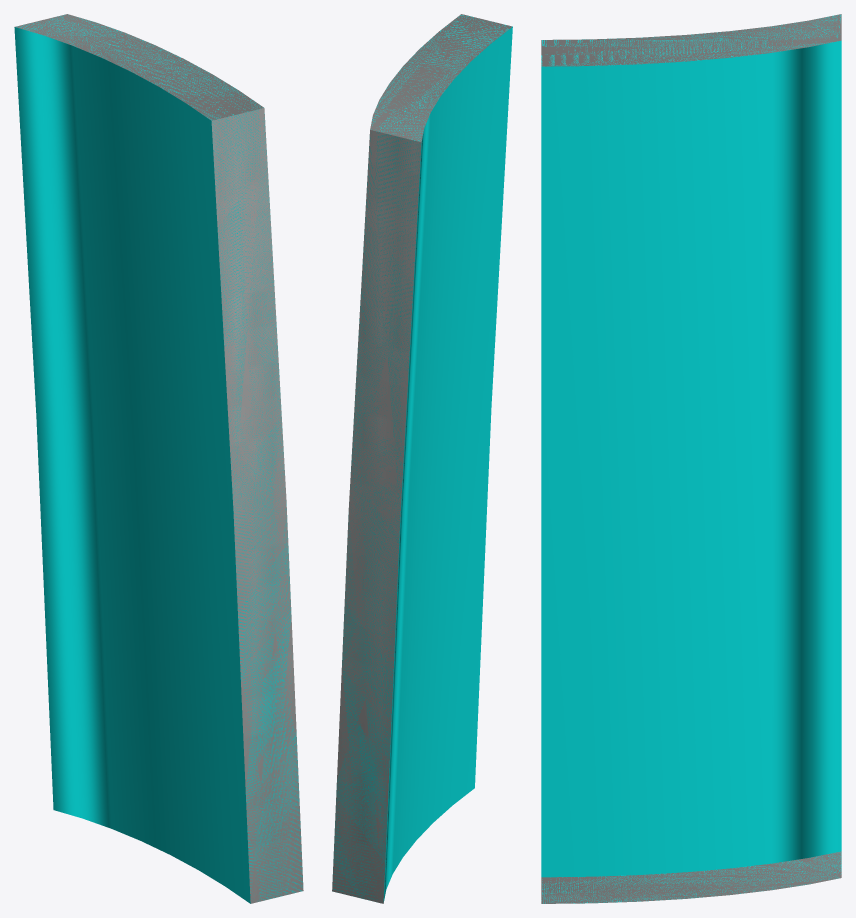
File: original-40.obj
The picture shows the model from 3 angles, left to right: view 1: azimuth 30°, elevation 25°; view 2: azimuth 150°, elevation 25°; view 3: azimuth 270°, elevation 25°; orthographic projection. The views are drawn at different scales.
Visible parts, largest first — view 1: Group4/mesh3/mesh3-geometry/material_2/component_0#mesh3-geometr; view 2: Group4/mesh3/mesh3-geometry/material_2/component_0#mesh3-geometr; view 3: Group4/mesh3/mesh3-geometry/material_2/component_0#mesh3-geometr.
Part boxes in pixels (bbox=[...]): Group4/mesh3/mesh3-geometry/material_2/component_0#mesh3-geometr: bbox=[14, 14, 303, 903]; Group4/mesh3/mesh3-geometry/material_2/component_0#mesh3-geometr: bbox=[332, 14, 512, 903]; Group4/mesh3/mesh3-geometry/material_2/component_0#mesh3-geometr: bbox=[541, 14, 841, 903].
Bounding box in the file's own units: 0.0604 × 0.3184 × 0.106.
Materials: 2 (1 with a texture image).
